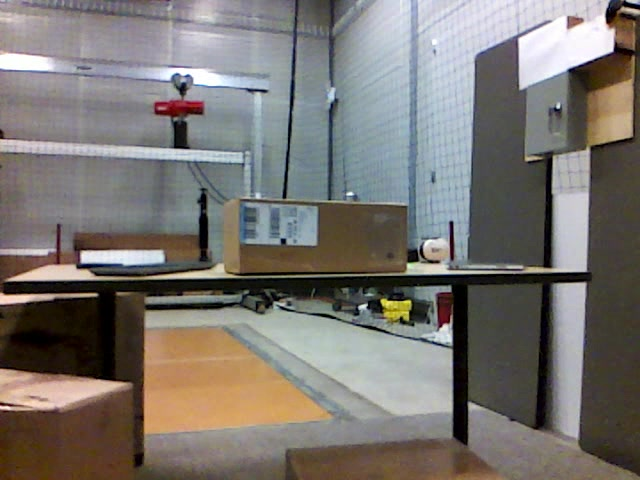box: (1, 295, 145, 468), (1, 368, 133, 480), (224, 198, 410, 277), (283, 442, 496, 480)
